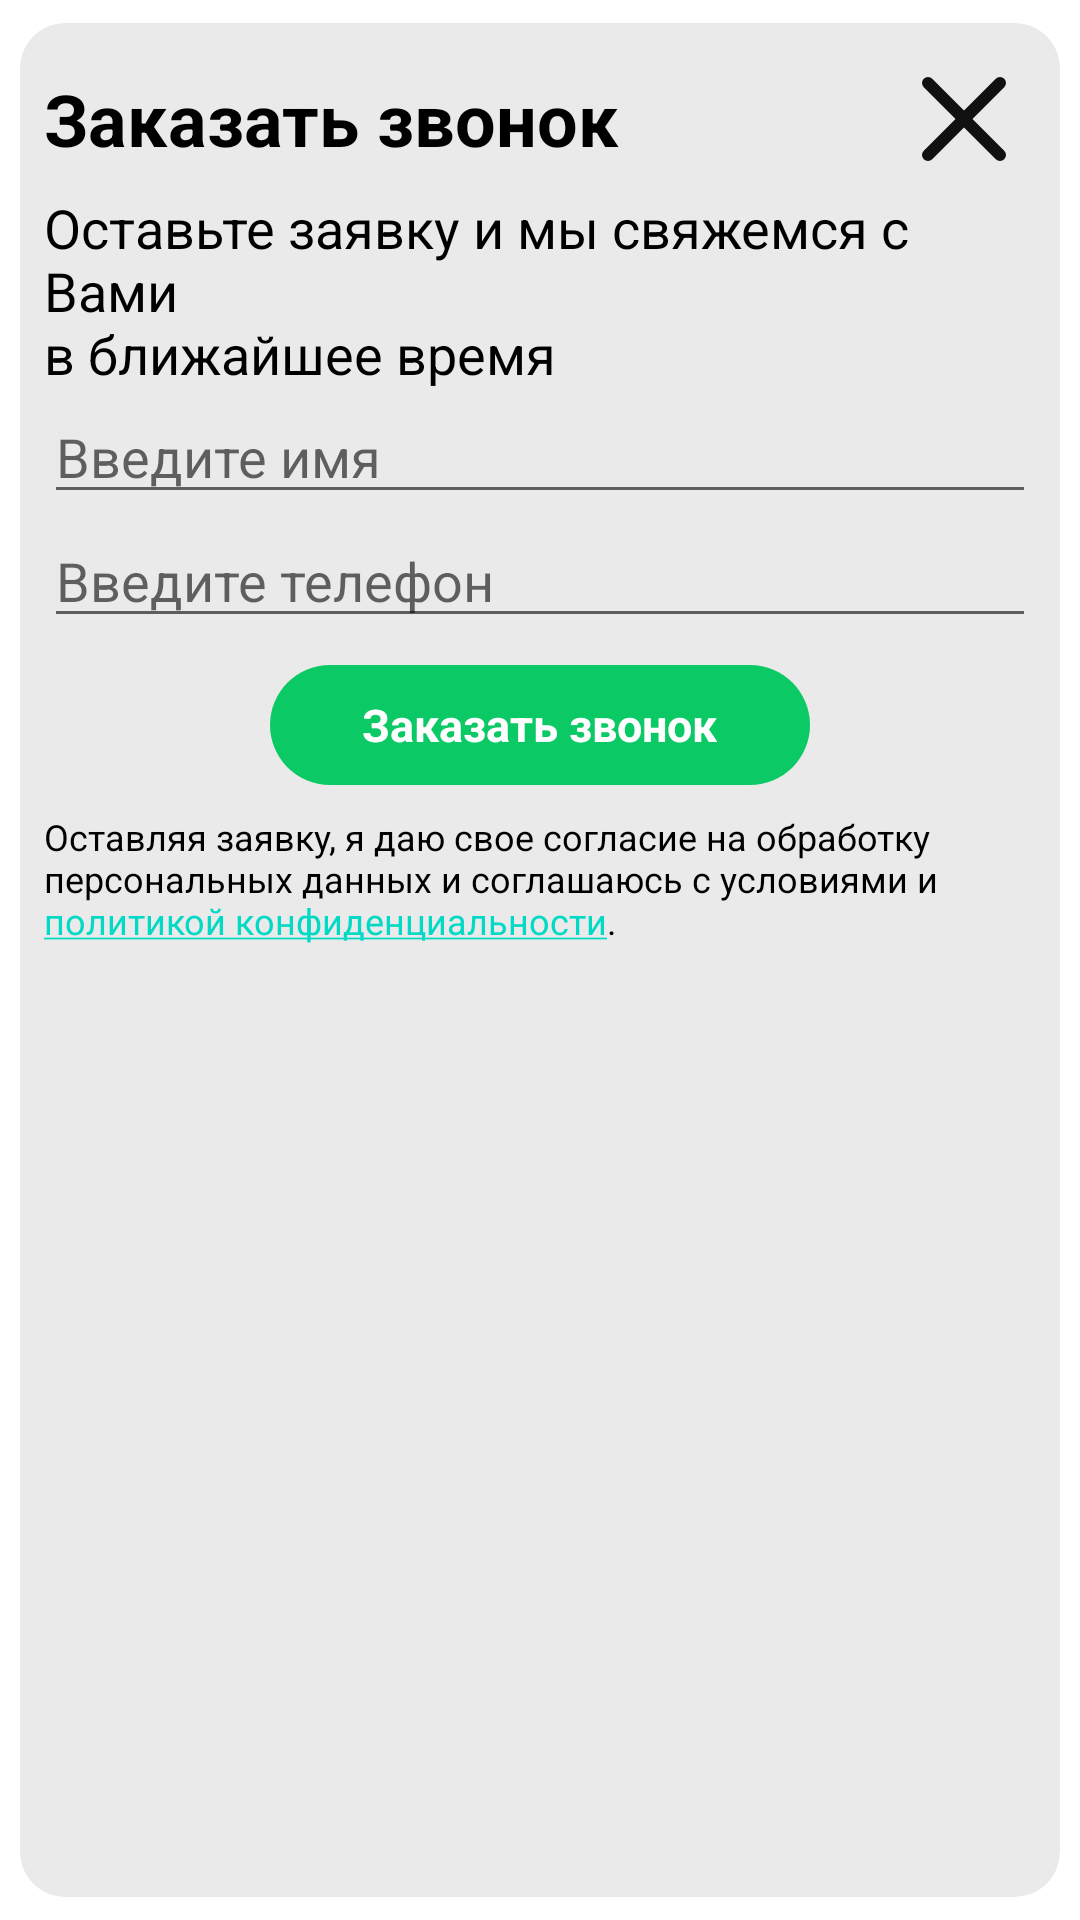

Icon bounding boxes for this 1080 × 1920 phone screenshot, format (x1, y1, x2, y2):
close: (922, 77, 1006, 161)
